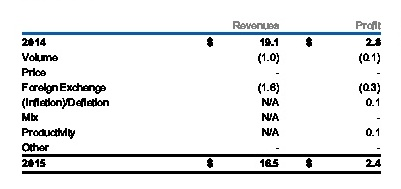table: (0, 0, 401, 189)
